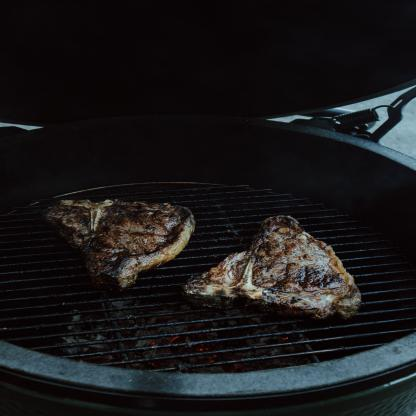Carne: (182, 215, 371, 313), (36, 201, 195, 289)
